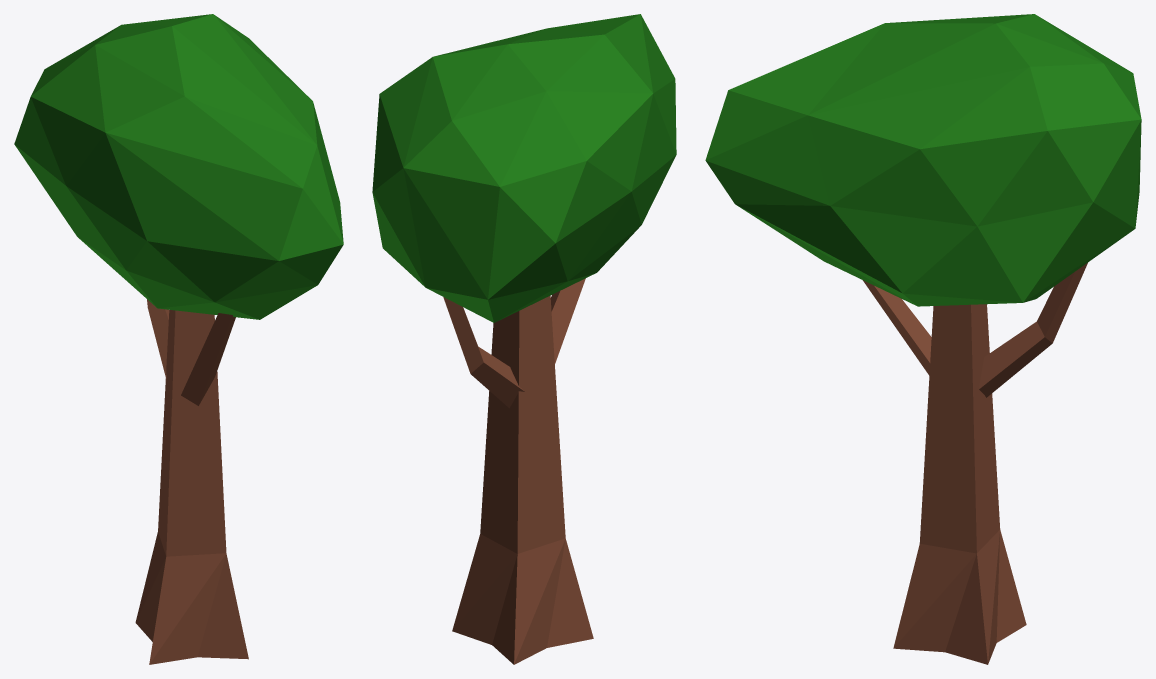
The model's file is Tree_37_summer_vc.fbx.
3 views of the same model, side by side, from view 1: azimuth 30°, elevation 25°; view 2: azimuth 150°, elevation 25°; view 3: azimuth 270°, elevation 25° (orthographic).
Visible parts, largest first — view 1: Tree_37_summer_vc; view 2: Tree_37_summer_vc; view 3: Tree_37_summer_vc.
Boxes of the visible parts, <box> form: Tree_37_summer_vc: <box>14,14,343,664</box>; Tree_37_summer_vc: <box>372,14,676,664</box>; Tree_37_summer_vc: <box>705,14,1141,664</box>.
Bounding box in the file's own units: 2.44 × 6.07 × 3.92.
